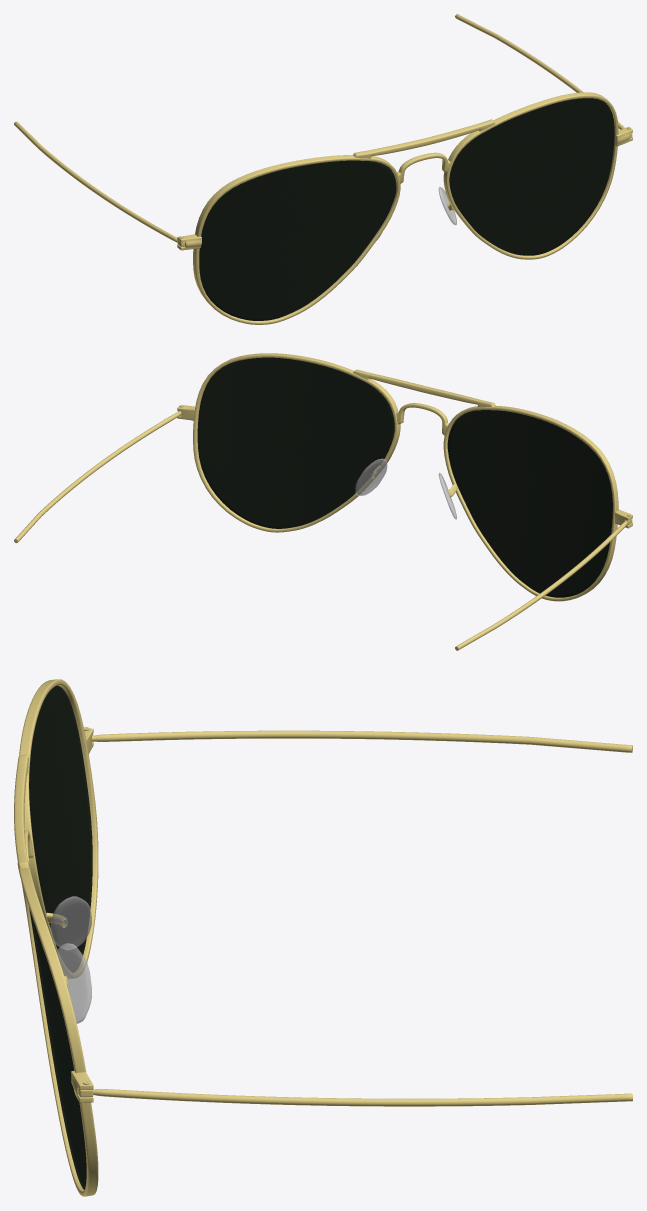
The model's file is AviatorApp.glb.
3 renders of one model, top to bottom at view 1: azimuth 30°, elevation 25°; view 2: azimuth 150°, elevation 25°; view 3: azimuth 270°, elevation 25°, orthographic. The views are drawn at different scales.
Visible parts, largest first — view 1: lentes, armacao; view 2: lentes, armacao, Pontes; view 3: armacao, lentes, Pontes.
Boxes of the visible parts, x1,y1,x2,y2 form: lentes: [199, 98, 614, 320]; armacao: [14, 14, 632, 324]; lentes: [197, 357, 612, 597]; armacao: [14, 353, 632, 650]; Pontes: [355, 458, 456, 519]; armacao: [14, 679, 632, 1196]; lentes: [29, 685, 92, 1189]; Pontes: [50, 896, 91, 1023].
Size of the model in its own units: 0.1601 by 0.055 by 0.113.
Materials: 3 (3 with a texture image).
